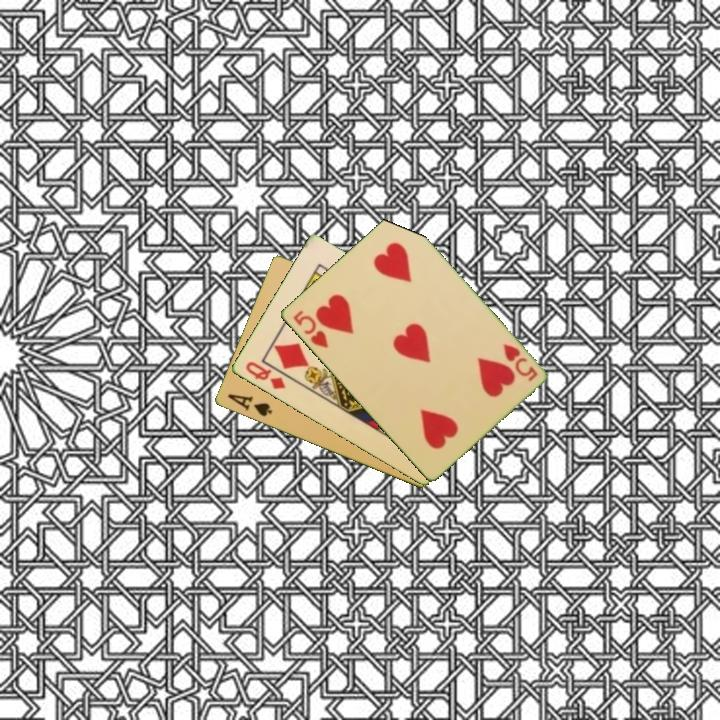5h: (289, 307, 330, 351), (499, 340, 540, 384)
As: (224, 390, 275, 420)
Qd: (242, 358, 288, 393)
